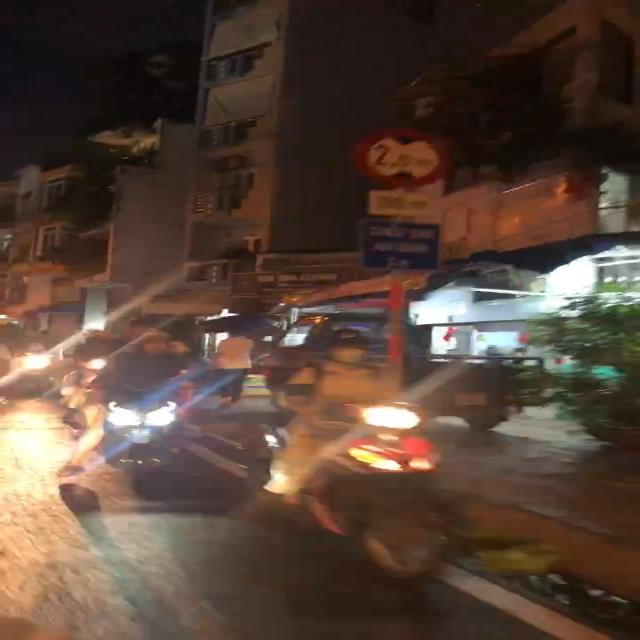Bien bao han che chieu cao: (343, 124, 463, 194)
